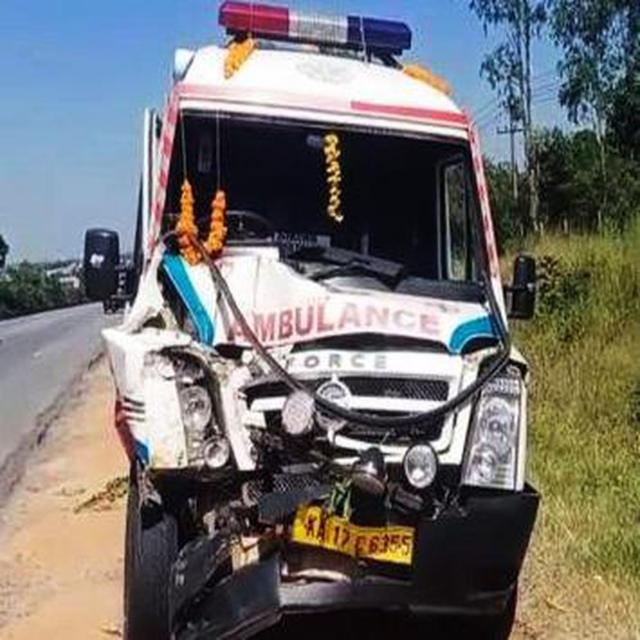accident: (84, 3, 539, 638)
